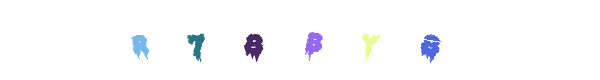7: (157, 0, 237, 80)
8: (214, 0, 294, 80), (332, 0, 412, 80)
B: (260, 0, 340, 80)
R: (150, 0, 230, 80)
Y: (329, 0, 409, 80)
